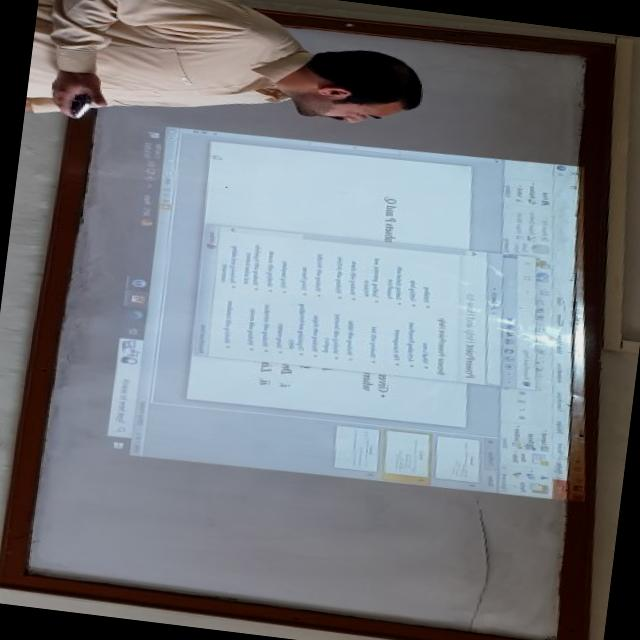Instructor: (24, 0, 442, 148)
Slide: (88, 123, 588, 502)
White-board: (11, 0, 600, 640)
